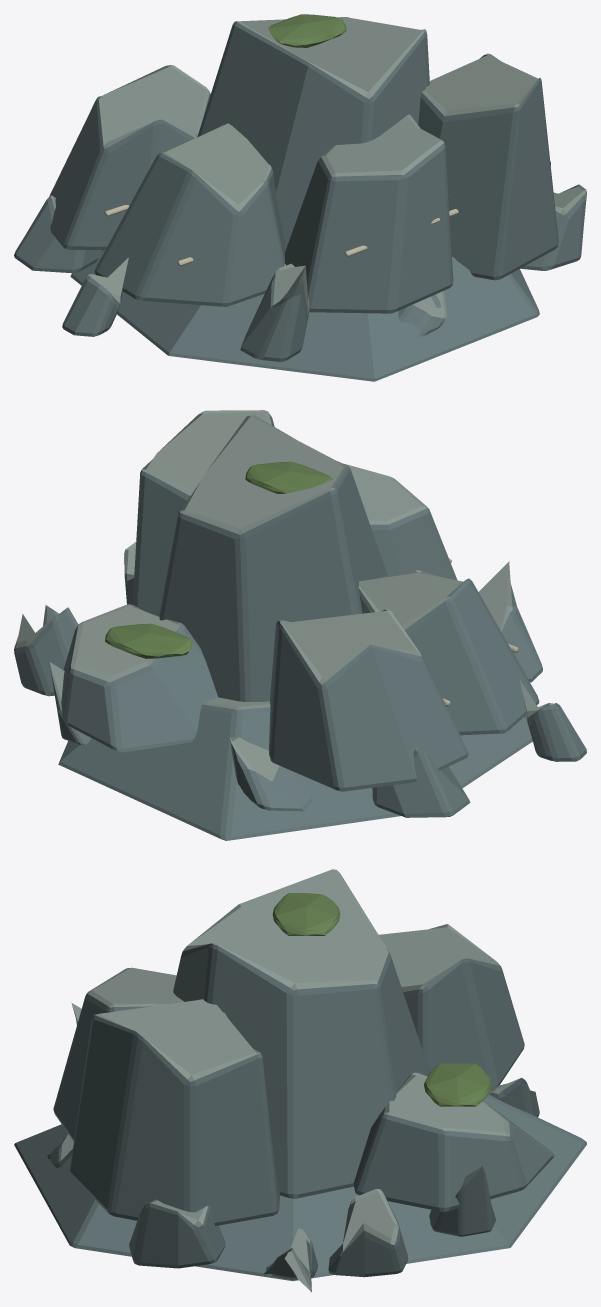
File: stone_outcrop_a.glb
The picture shows the model from 3 angles, top to bottom: view 1: azimuth 30°, elevation 25°; view 2: azimuth 150°, elevation 25°; view 3: azimuth 270°, elevation 25°; orthographic projection. The views are drawn at different scales.
Parts seen in each view (by area): view 1: FracturedMass.004, FracturedMass.038, FracturedMass.040, FracturedMass.042, FracturedMass.043, FracturedMass.039, MossShelf.018; view 2: FracturedMass.004, FracturedMass.038, FracturedMass.039, FracturedMass.041, FracturedMass.042, FracturedMass.043, FracturedMass.040, MossShelf.019, MossShelf.018; view 3: FracturedMass.038, FracturedMass.043, FracturedMass.004, FracturedMass.041, FracturedMass.039, FracturedMass.040, MossShelf.019, MossShelf.018.
Part boxes in pixels (x1,y1,x2,y2): FracturedMass.004: (14,162,586,381); FracturedMass.038: (197,17,429,249); FracturedMass.040: (285,114,453,313); FracturedMass.042: (94,123,285,306); FracturedMass.043: (418,53,558,280); FracturedMass.039: (49,65,210,249); MossShelf.018: (268,14,346,47); FracturedMass.004: (14,542,586,840); FracturedMass.038: (159,414,387,701); FracturedMass.039: (269,609,468,791); FracturedMass.041: (61,604,217,752); FracturedMass.042: (358,570,539,735); FracturedMass.043: (132,410,274,616); FracturedMass.040: (344,464,457,580); MossShelf.019: (105,623,192,658); MossShelf.018: (245,461,332,493); FracturedMass.038: (173,869,430,1198); FracturedMass.043: (70,999,280,1225); FracturedMass.004: (14,1003,586,1292); FracturedMass.041: (353,1072,554,1211); FracturedMass.039: (379,924,524,1087); FracturedMass.040: (53,967,184,1141); MossShelf.019: (424,1063,491,1106); MossShelf.018: (272,893,340,935).
Size of the model in its own units: 2.41 by 1.16 by 2.16.
